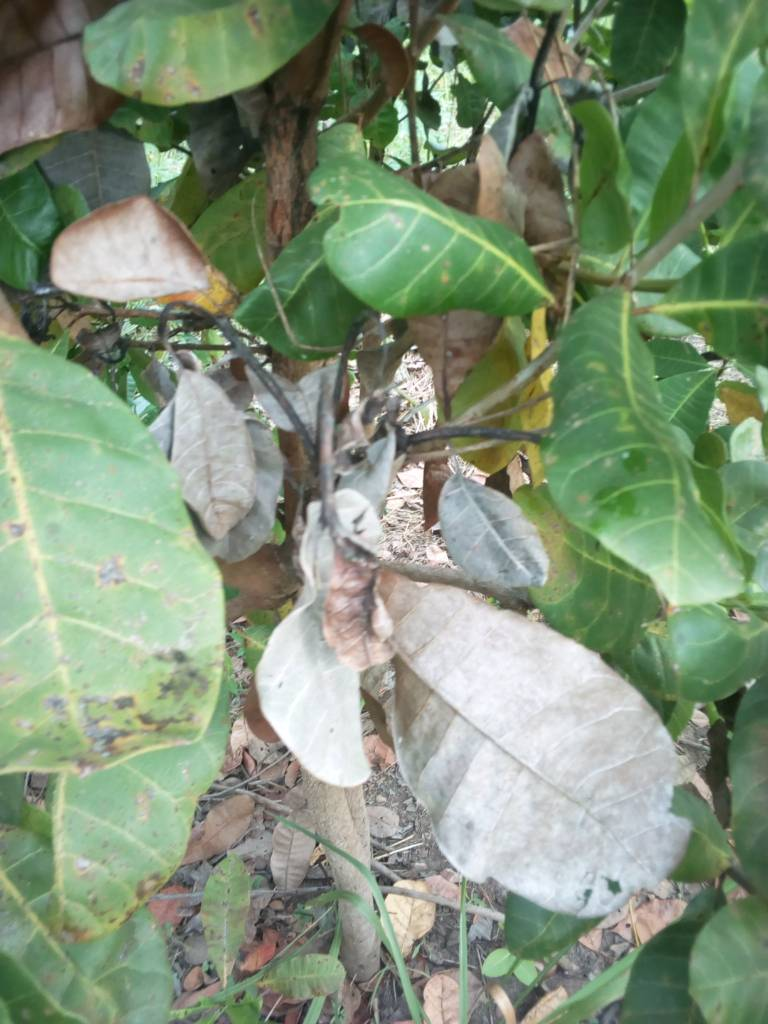Dessèchement des bourgeons: (19, 288, 250, 364), (382, 413, 543, 456)
